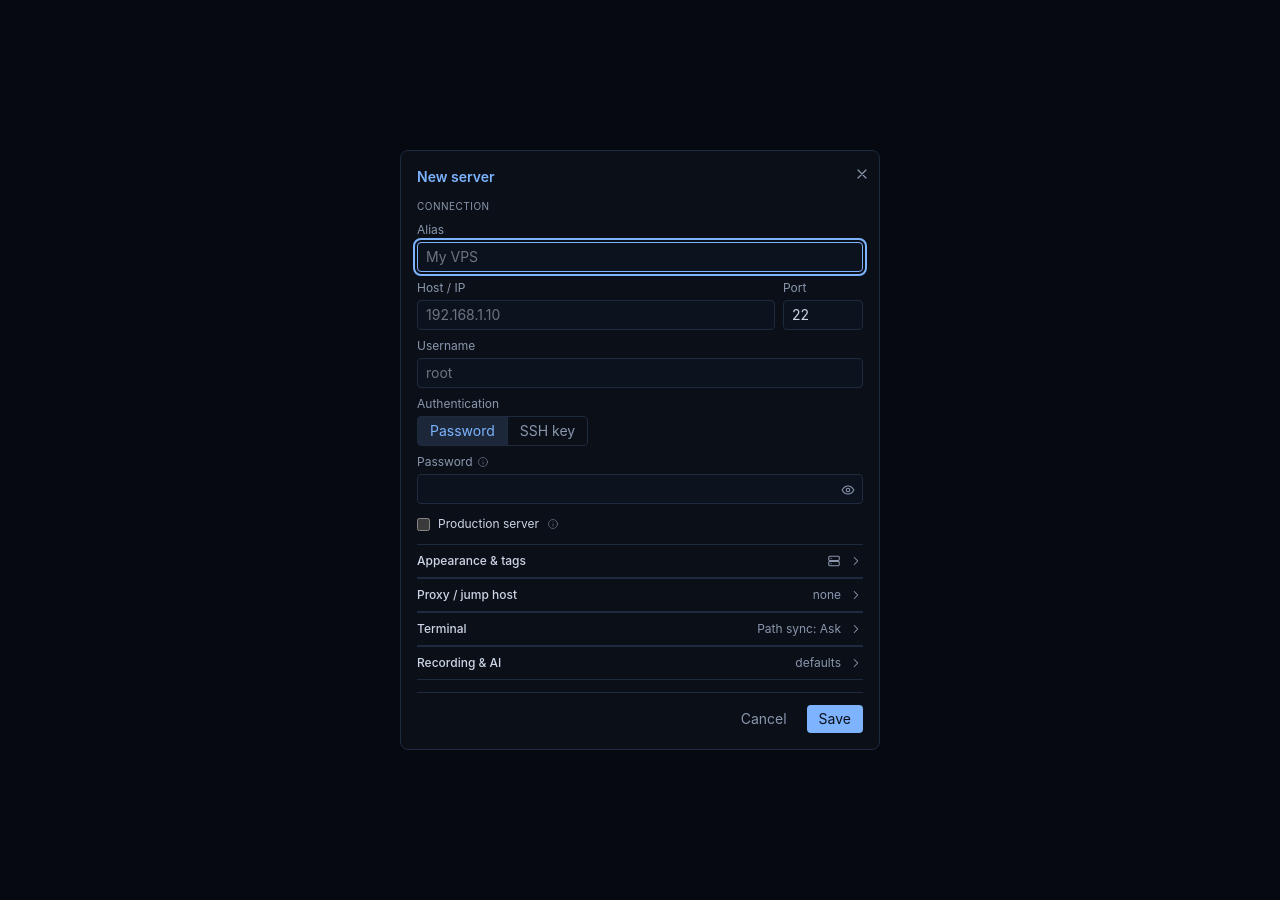
Test: ServerFormModal validation › highlights empty required fields on submit instead of silently doing nothing
Expected: the text "This field is required" is not shown
Click the button with test id "save-server".
click(835, 719)  # box [807, 705, 863, 733]
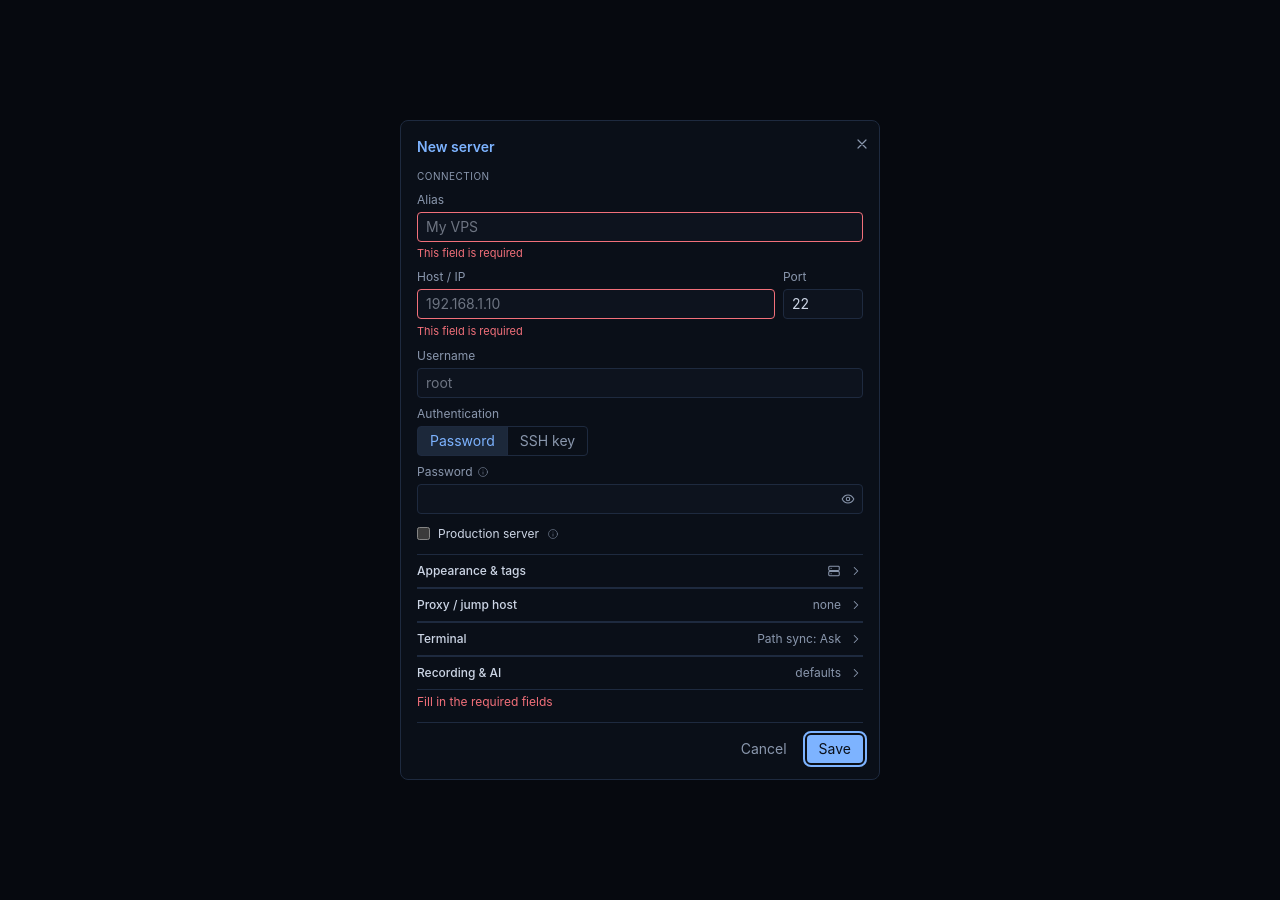
Expected: the text "This field is required" is shown 2 times, [417, 246, 523, 260]; [417, 324, 523, 338]
Expected: the text "Fill in the required fields" is shown, [417, 694, 553, 709]
